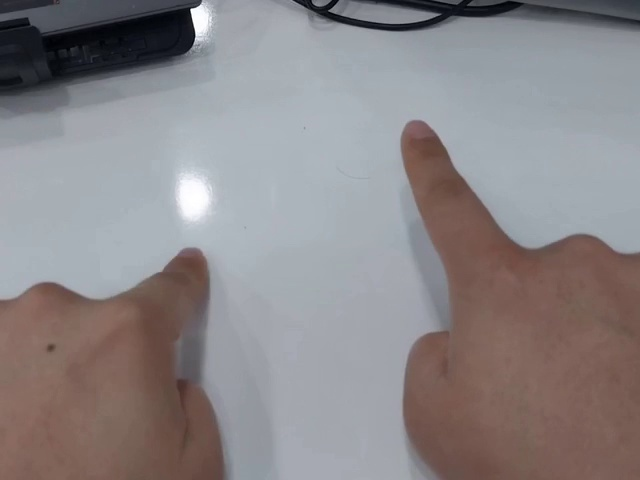fingers: (161, 246, 209, 308), (399, 119, 452, 170)
